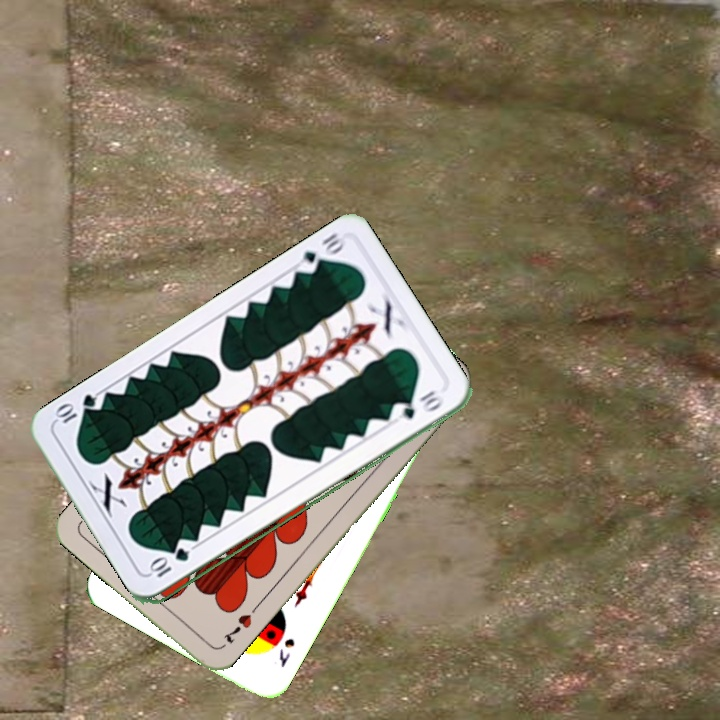G10: (293, 229, 347, 277), (147, 546, 193, 580)
H7: (219, 609, 255, 646)
SK: (274, 634, 298, 671)
